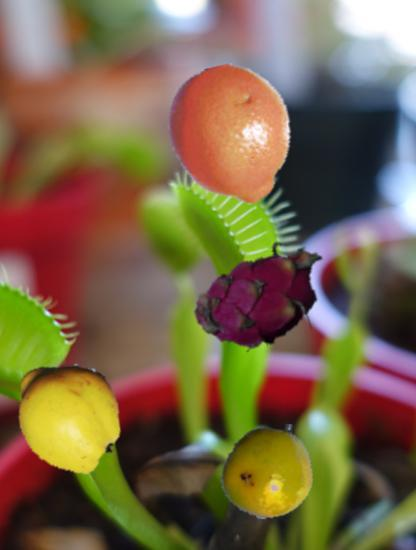Maracuja: (218, 421, 317, 520)
Pitahaya: (191, 226, 333, 368)
Quince: (8, 353, 130, 475)
Tangelo: (160, 65, 302, 207)
